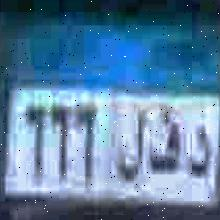6: (74, 103, 98, 181), (49, 104, 73, 180), (25, 104, 46, 182)
daal: (190, 124, 215, 174)
faa: (147, 101, 182, 176)
laam: (120, 115, 144, 181)
